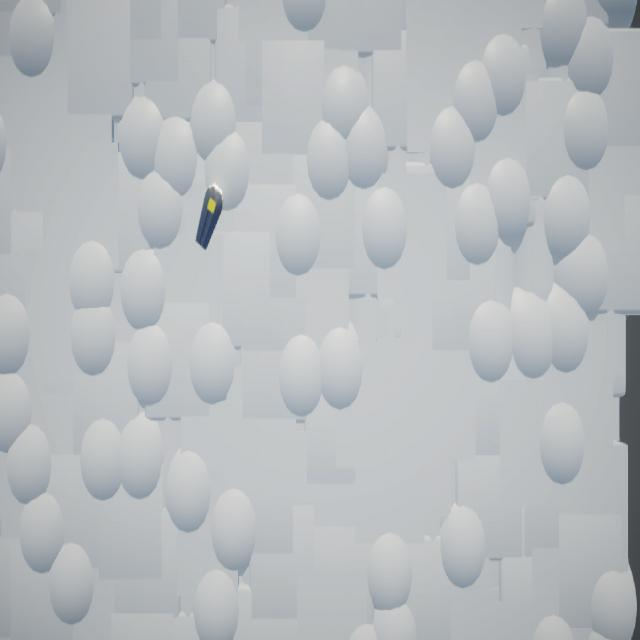handle_folk: (197, 186, 225, 251)
